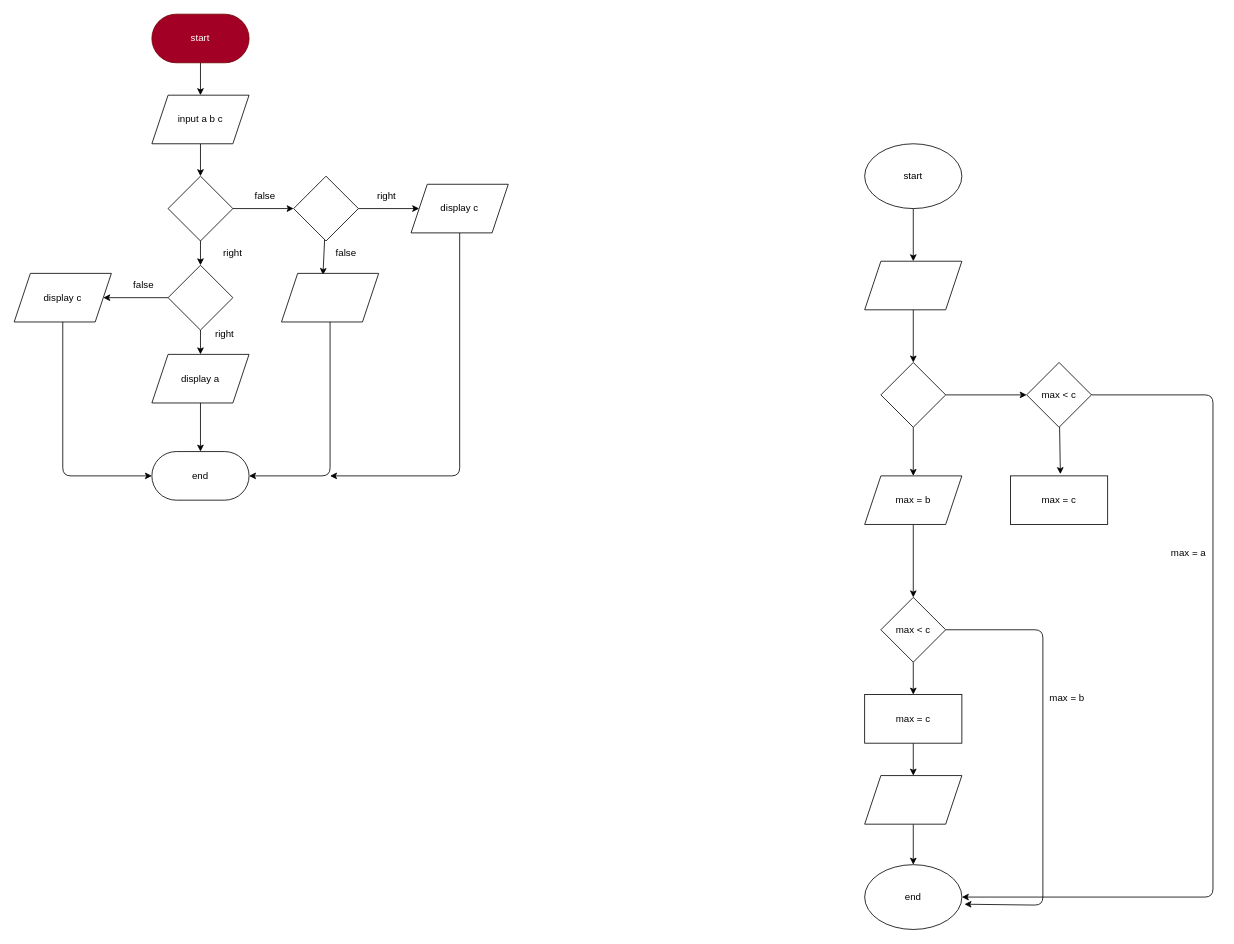
Some shapes in this 1234 by 944 pixel diagram are drawn without their labels. The centre of each missing label's shape, as x and y in pixels:
"a = max" goes at (913,285).
"a > b" goes at (200,208).
"a > c" goes at (200,297).
"b > c" goes at (325,208).
"dispaly max" goes at (913,799).
"display b" goes at (330,297).
"max < b" goes at (913,394).
